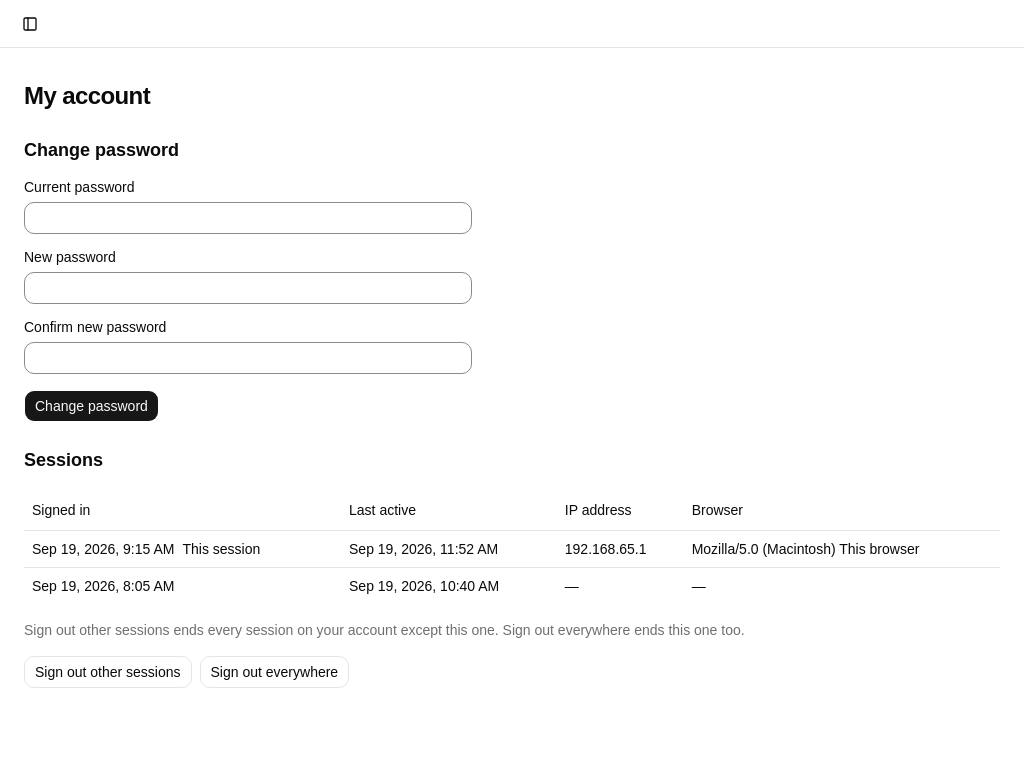
Scenario: reading the list again › does not read it again when Sign out other sessions is refused
Expected: the heading "My account" is shown, [24, 80, 150, 112]
Click the button "Sign out other sessions" at x=108, y=672, box [24, 656, 192, 688]
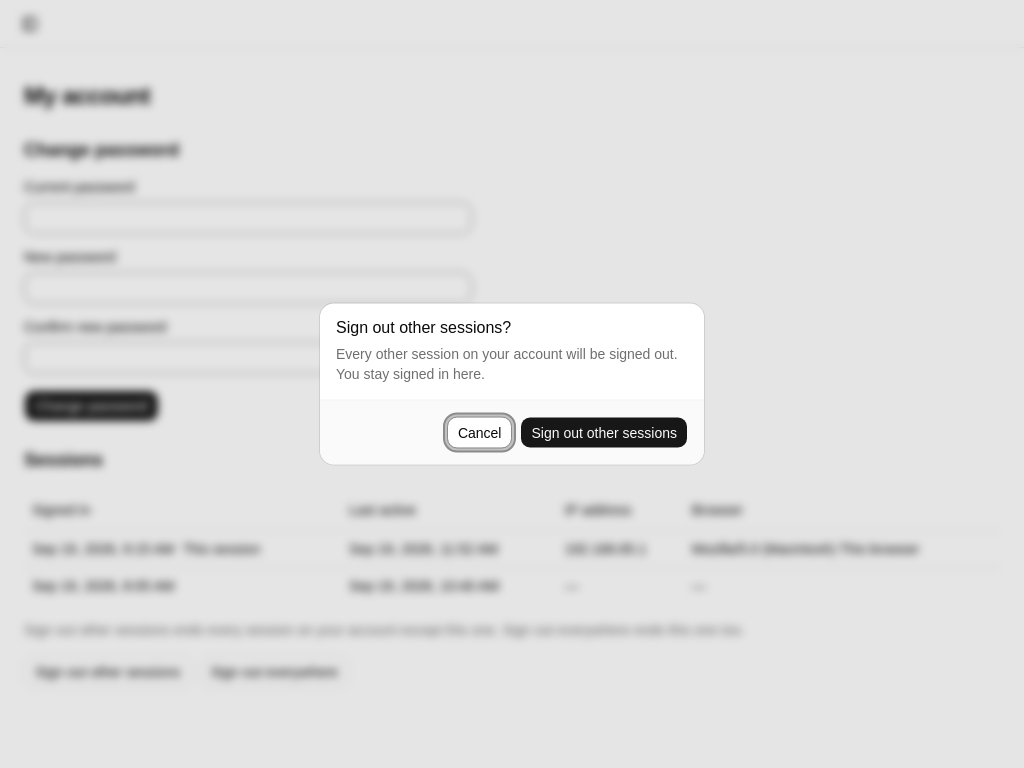
Click the button "Sign out other sessions" at x=604, y=432, box [520, 416, 688, 448]
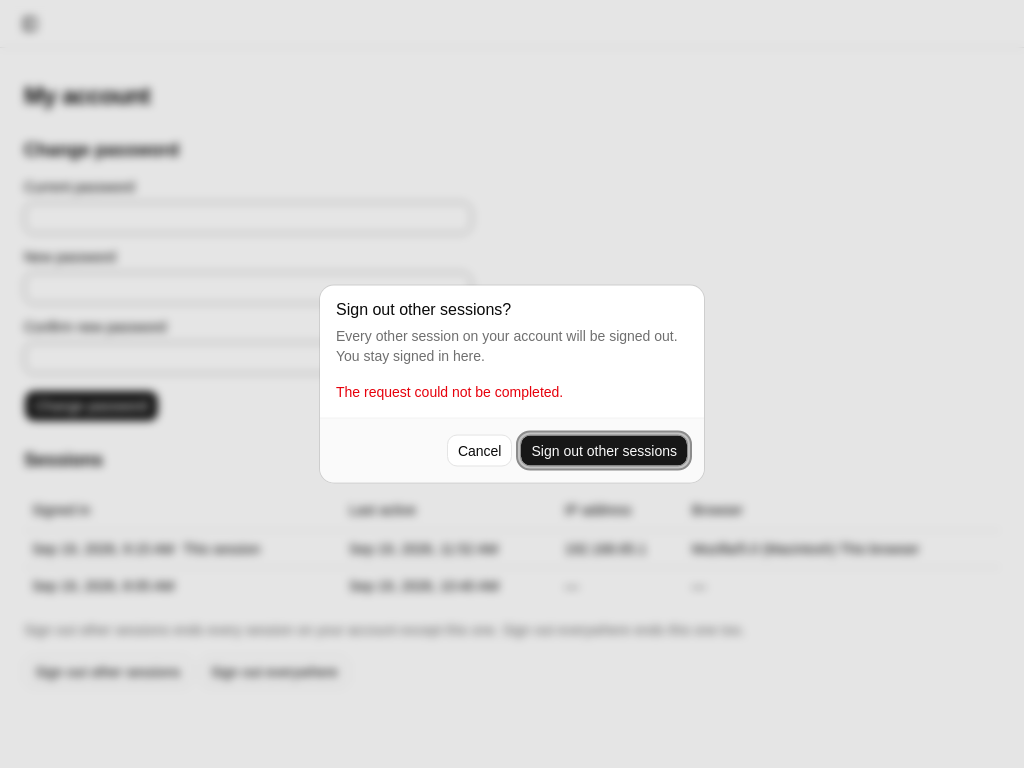
Result: the text "The request could not be completed." is shown at [336, 384, 563, 400]
